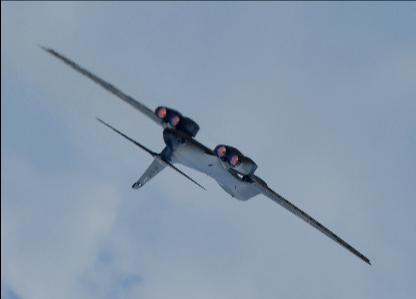AV8B: (36, 43, 372, 264)
